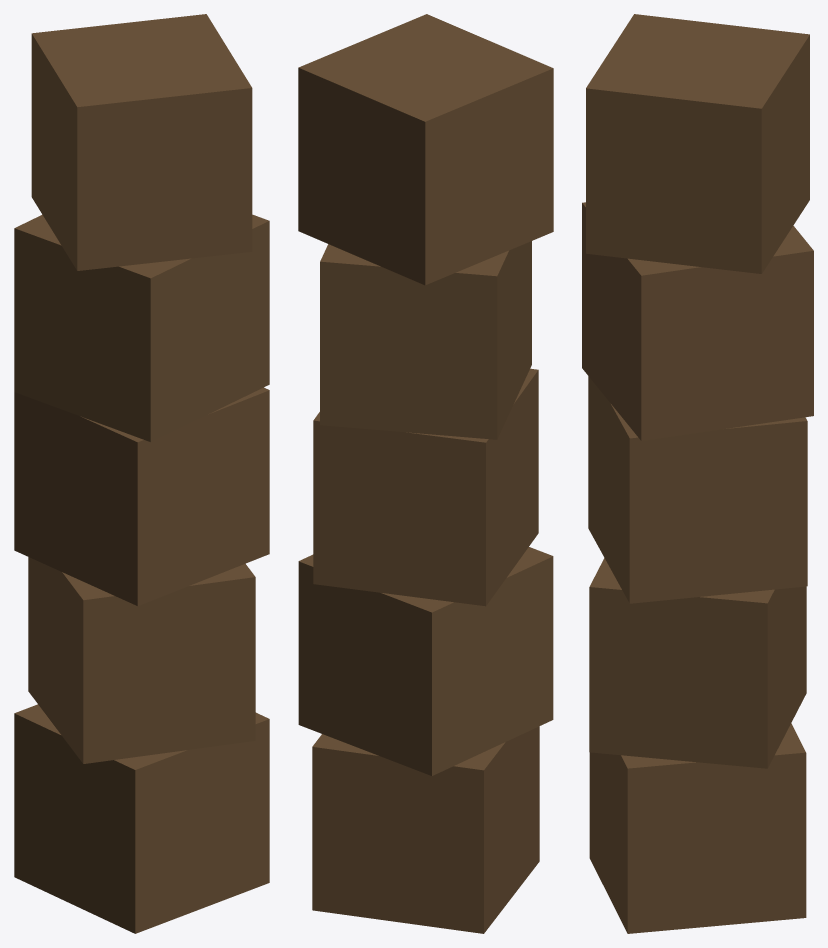
File: boxes.fbx
The picture shows the model from 3 angles, left to right: view 1: azimuth 30°, elevation 25°; view 2: azimuth 150°, elevation 25°; view 3: azimuth 270°, elevation 25°; orthographic projection.
Parts seen in each view (by area): view 1: Cube.006; view 2: Cube.006; view 3: Cube.006.
Boxes of the visible parts, x1,y1,x2,y2 form: Cube.006: (14, 14, 269, 933); Cube.006: (298, 14, 553, 933); Cube.006: (582, 14, 813, 933).
Bounding box in the file's own units: 254 × 1000 × 254.
